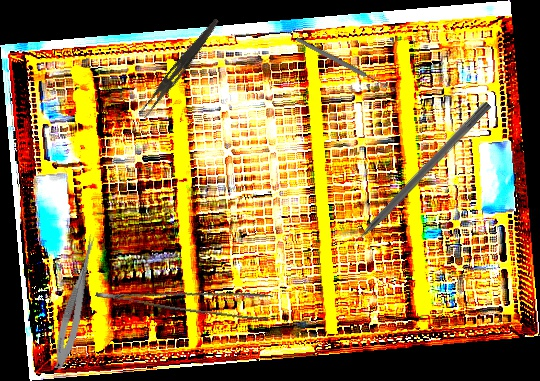Dressing Forceps: (138, 14, 221, 122)
Micro Scissor: (50, 232, 100, 371)
Pusher: (337, 99, 493, 259)
Surgical Spoon: (295, 36, 396, 94)
Tissue Forceps: (95, 262, 273, 330)
